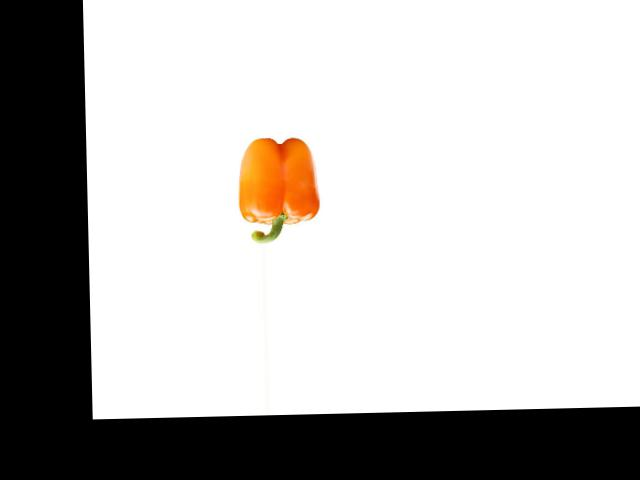bell_pepper: (228, 136, 328, 243)
